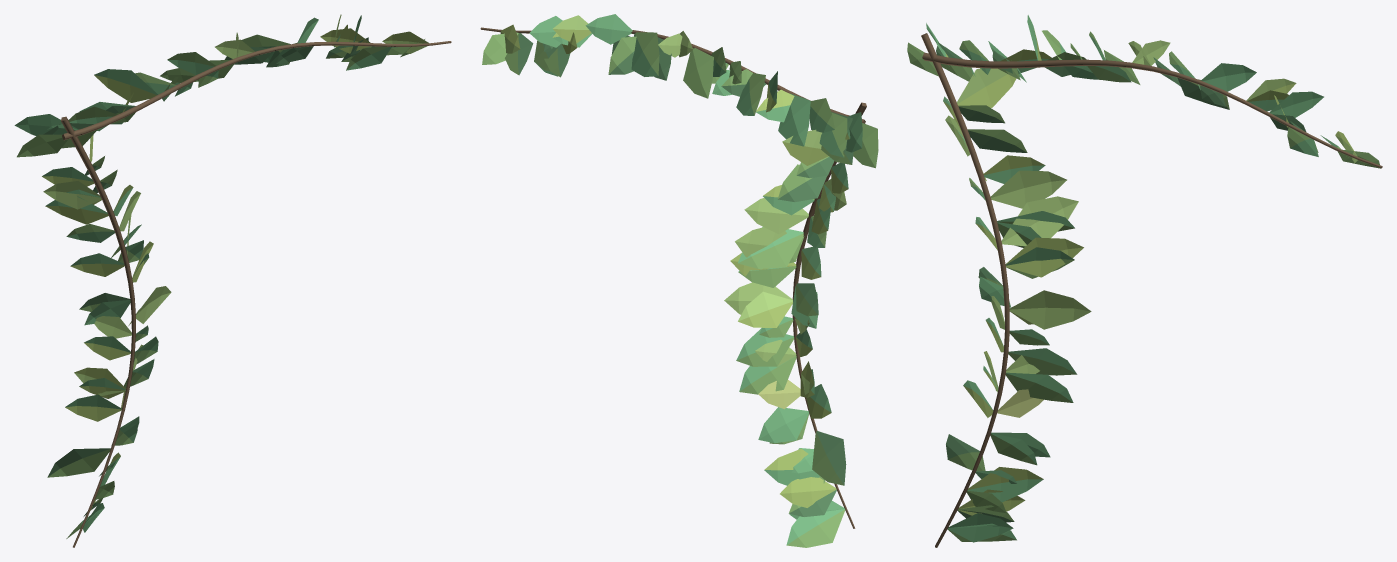
File: Ivy_03_Corner.glb
The picture shows the model from 3 angles, left to right: view 1: azimuth 30°, elevation 25°; view 2: azimuth 150°, elevation 25°; view 3: azimuth 330°, elevation 25°; orthographic projection. The views are drawn at different scales.
Parts seen in each view (by area): view 1: Ivy_03_Corner; view 2: Ivy_03_Corner; view 3: Ivy_03_Corner.
Boxes of the visible parts, x1,y1,x2,y2 form: Ivy_03_Corner: (14, 14, 451, 547); Ivy_03_Corner: (480, 14, 878, 547); Ivy_03_Corner: (907, 15, 1382, 547).
Size of the model in its own units: 1.18 by 1.28 by 0.1659.
